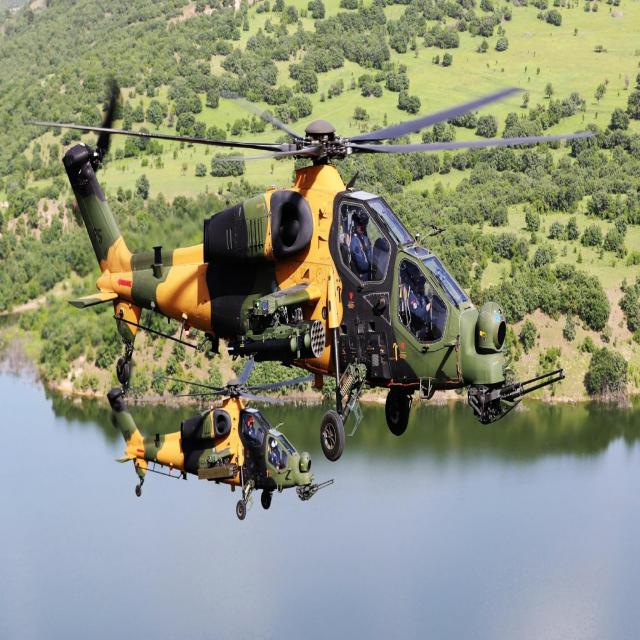MIL_HELO: (48, 56, 570, 440), (111, 352, 321, 518)
